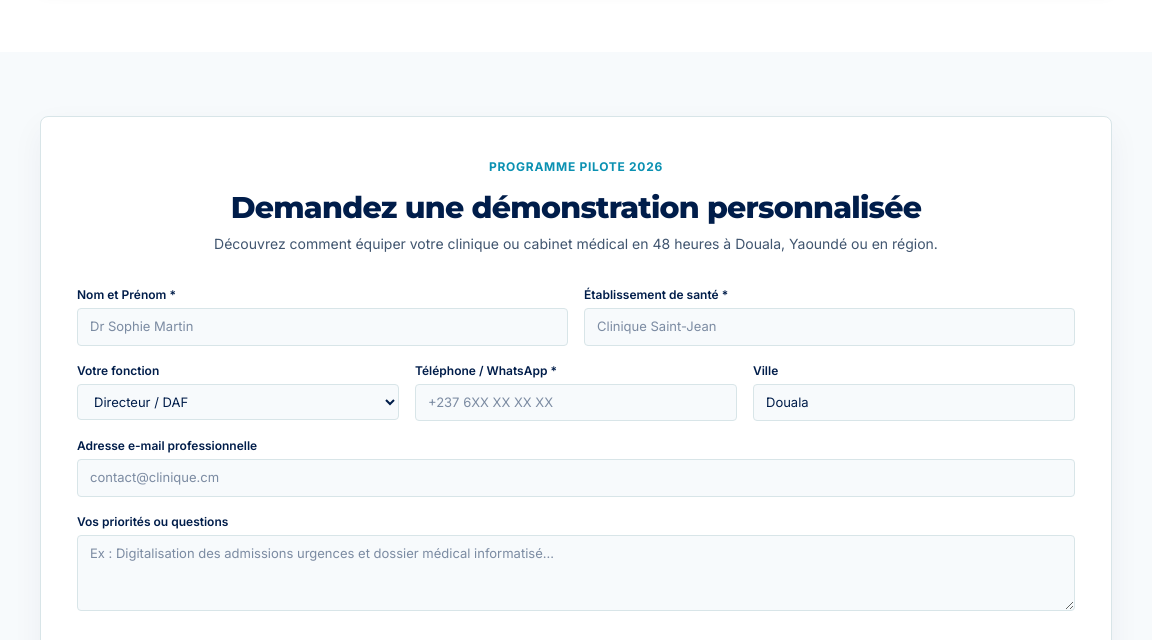
Test: LandingPageComponent › keeps WhatsApp available without an email CTA and validates the optional email
(page scrolled)
Type "Dr. Test" into the field labelled "Nom et Prénom *". click: (322, 327)
box: [77,308,568,346]
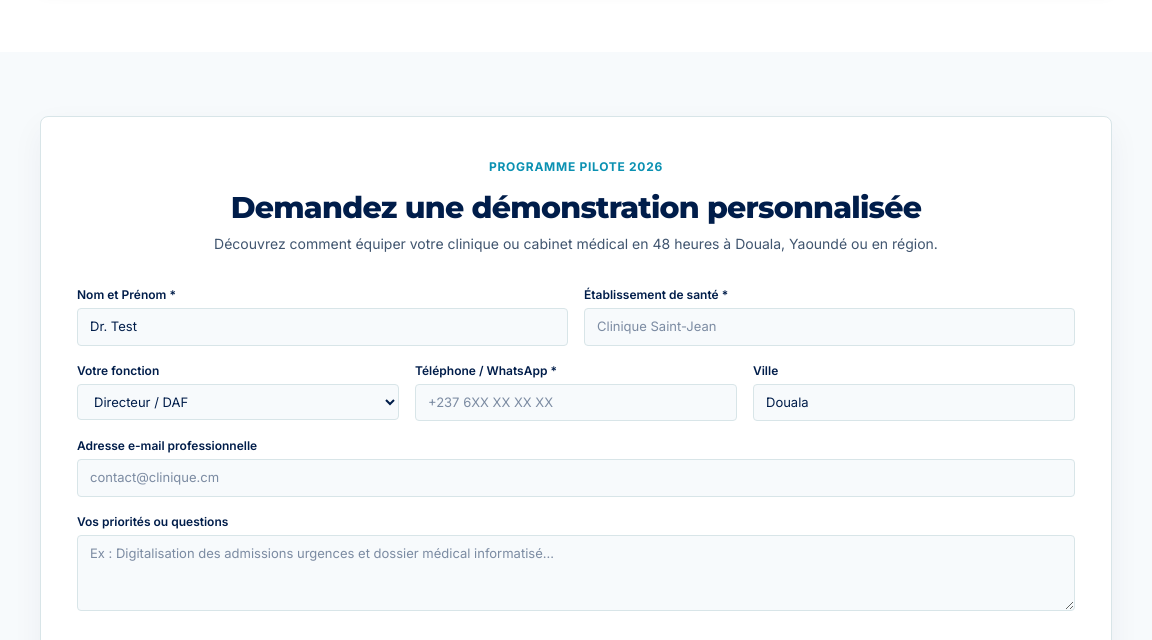
Type "Clinic" into the field labelled "Établissement de santé *". click: (830, 327)
box: [584,308,1075,346]
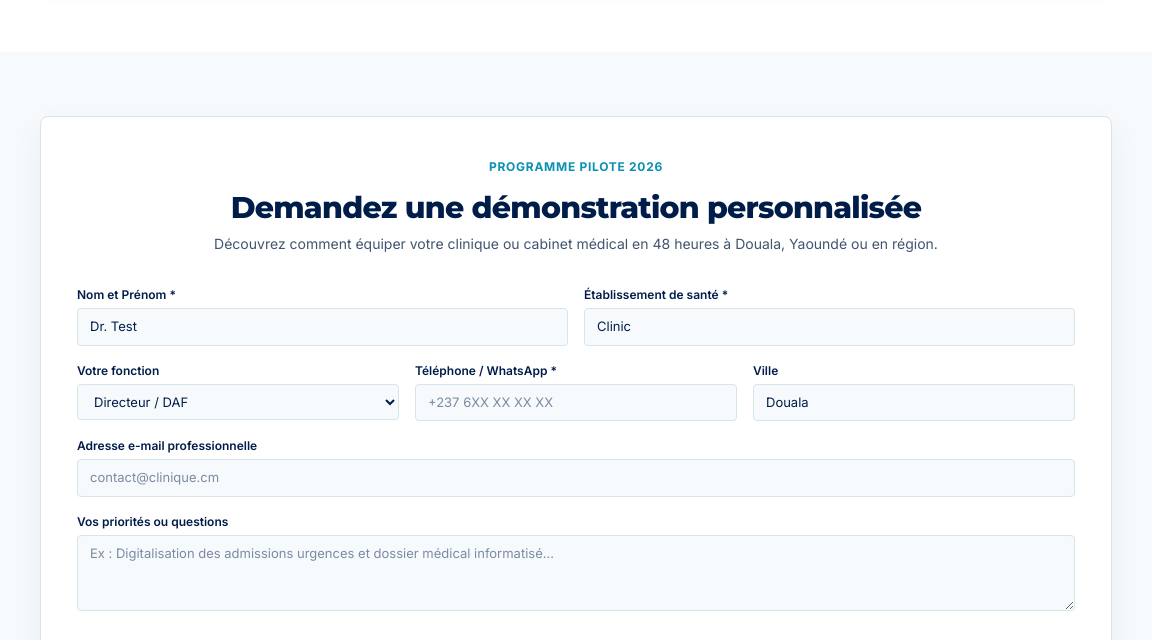
Type "+237600000000" into the field labelled "Téléphone / WhatsApp *". click: (576, 402)
box: [415,384,737,421]
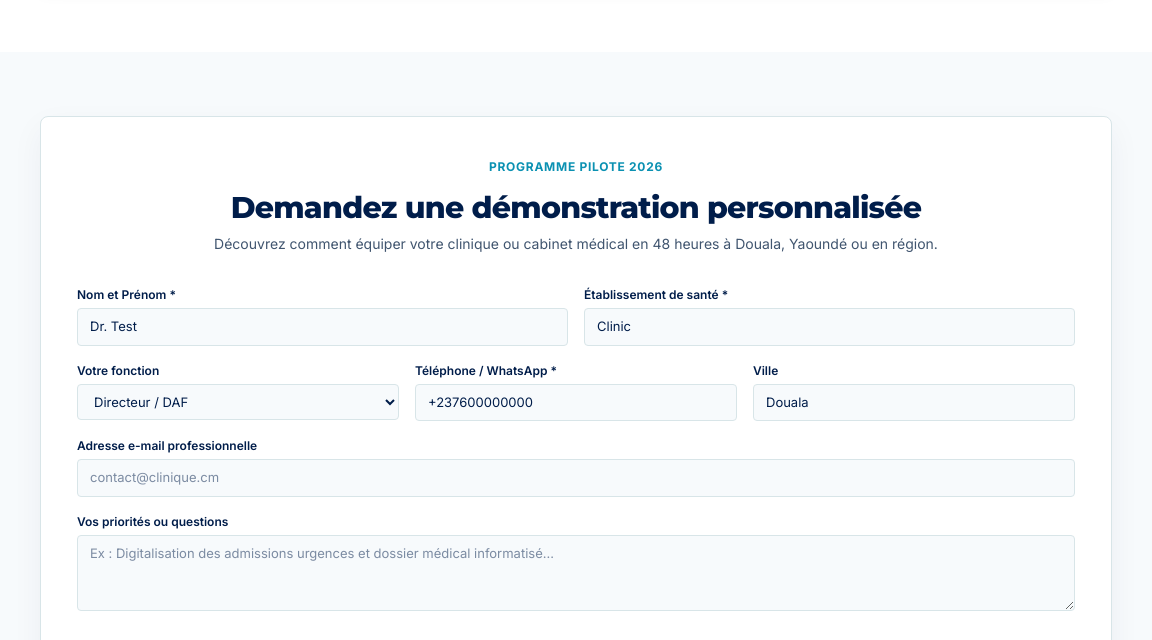
Type "invalid-email" into the field with id "demo-email". click: (576, 478)
box: [77,459,1075,496]
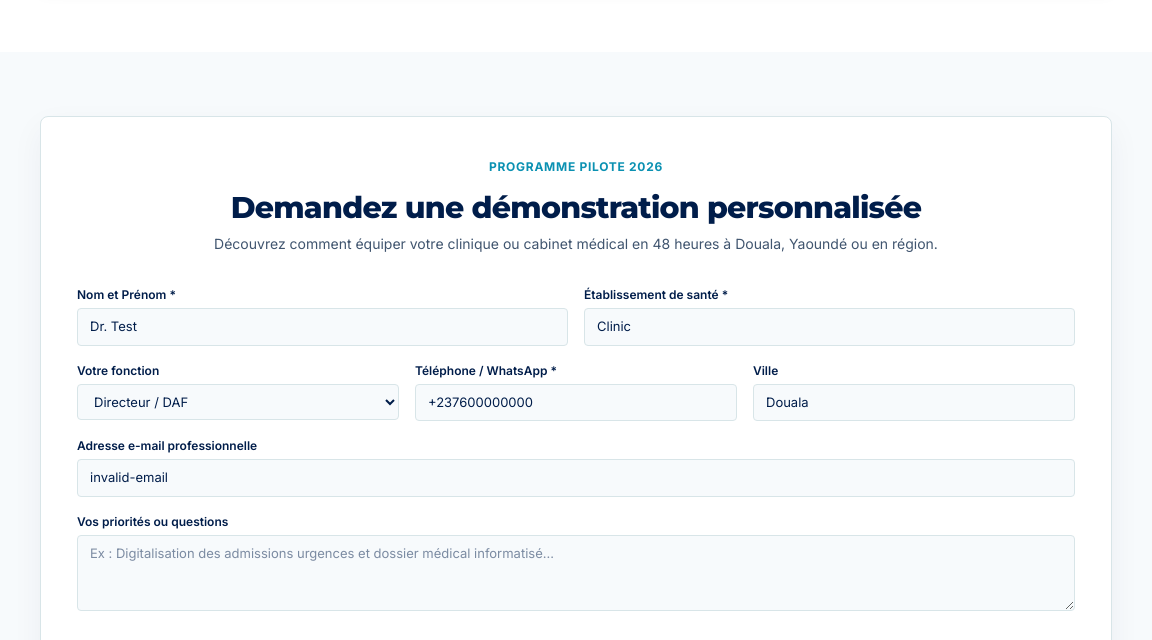
Clear the field with id "demo-email". click: (576, 478)
box: [77,459,1075,496]
(page scrolled)
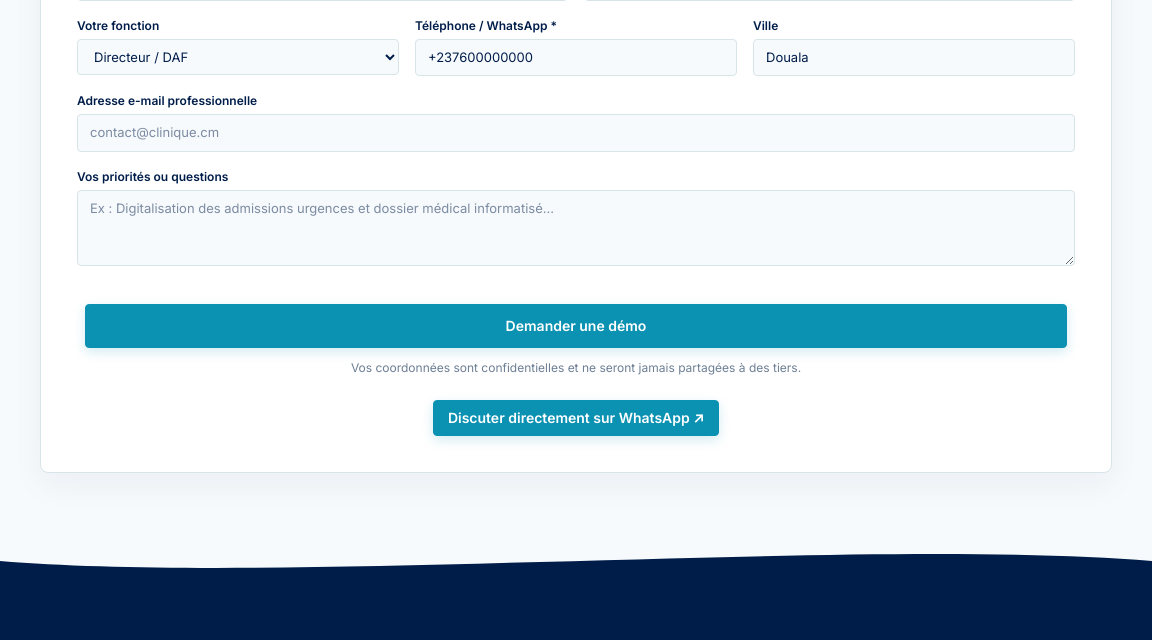
Now the submit button is enabled, box [85,304,1067,348]
